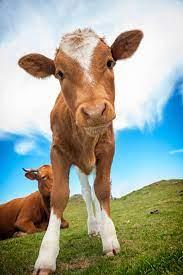cow: (19, 30, 143, 275), (1, 165, 70, 240)
